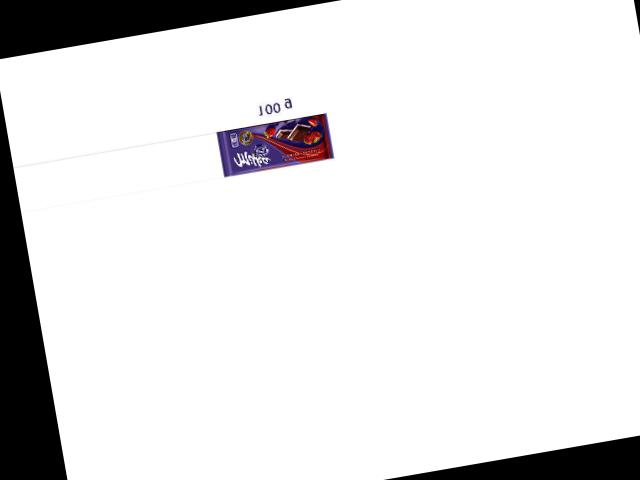chocolate: (216, 107, 335, 177)
